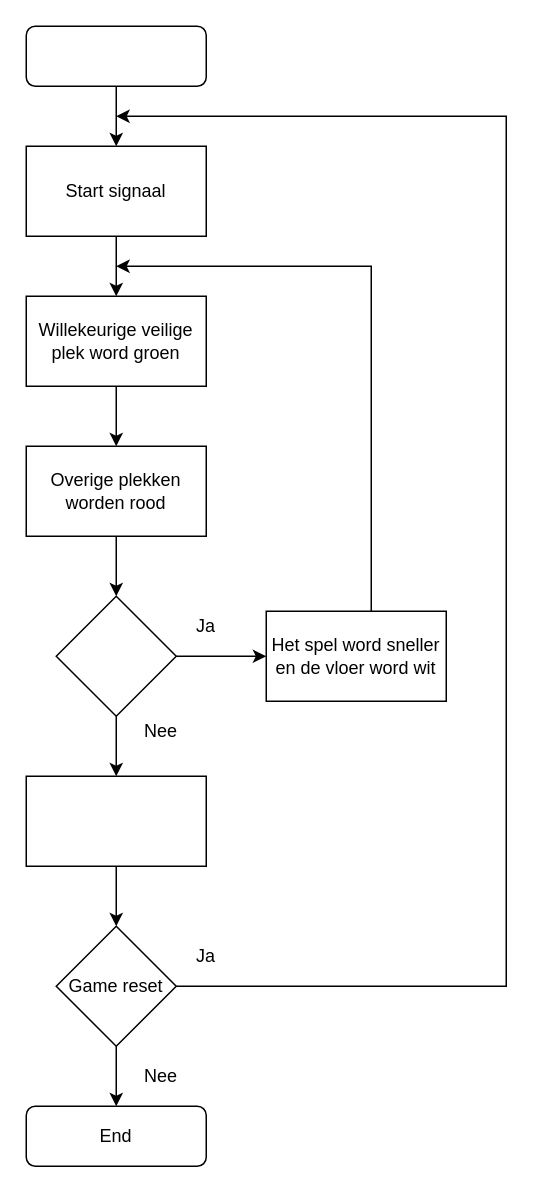
This 545x1193 diagram has some shape labels left out. Each missing label, with the centre of its shape:
"Game over signaal" belongs at point 115,820.
"Game Start" belongs at point 115,55.
"Staat de speler op groen" belongs at point 115,655.
